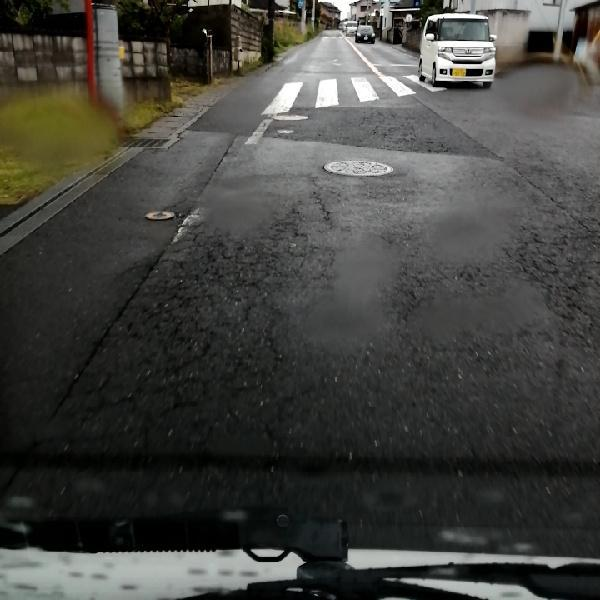D20: (28, 168, 564, 560), (347, 107, 439, 142)
D50: (322, 156, 394, 175), (144, 206, 177, 221), (271, 109, 308, 120)
